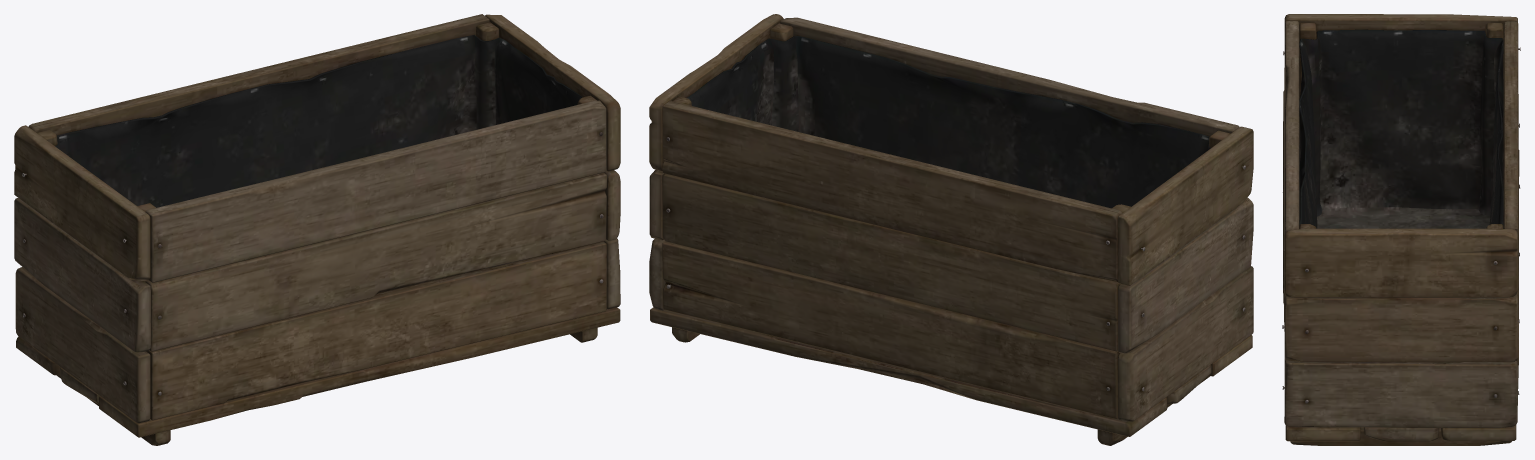
The model's file is planter_box_01.glb.
3 views of the same model, side by side, from view 1: azimuth 30°, elevation 25°; view 2: azimuth 150°, elevation 25°; view 3: azimuth 270°, elevation 25° (orthographic). The views are drawn at different scales.
Visible parts, largest first — view 1: planter_box_01; view 2: planter_box_01; view 3: planter_box_01.
Part boxes in pixels (x1,y1,x2,y2): planter_box_01: [14, 14, 620, 445]; planter_box_01: [649, 14, 1253, 445]; planter_box_01: [1282, 14, 1520, 445].
Bounding box in the file's own units: 0.9126 × 0.425 × 0.4137.
1 material, 1 textured.
